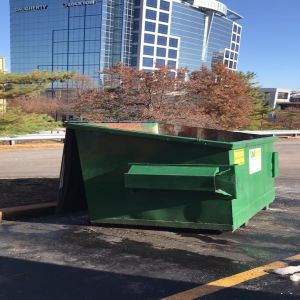Dumpster: (53, 118, 284, 236)
